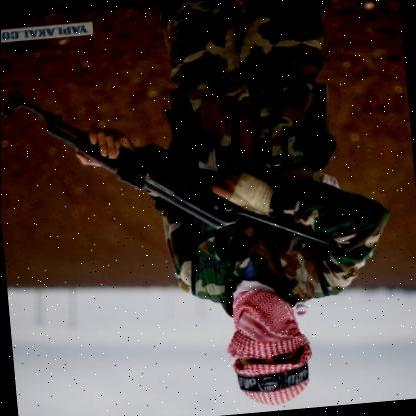rifle: (0, 61, 331, 275)
